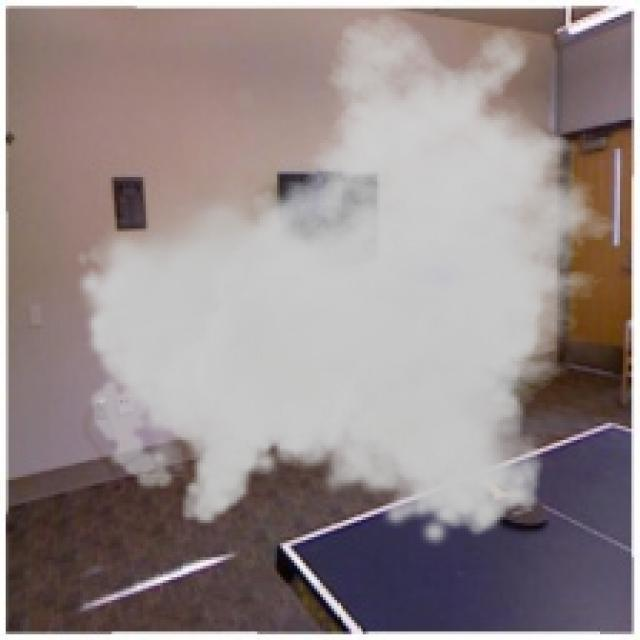Smoke: (74, 11, 637, 552)
